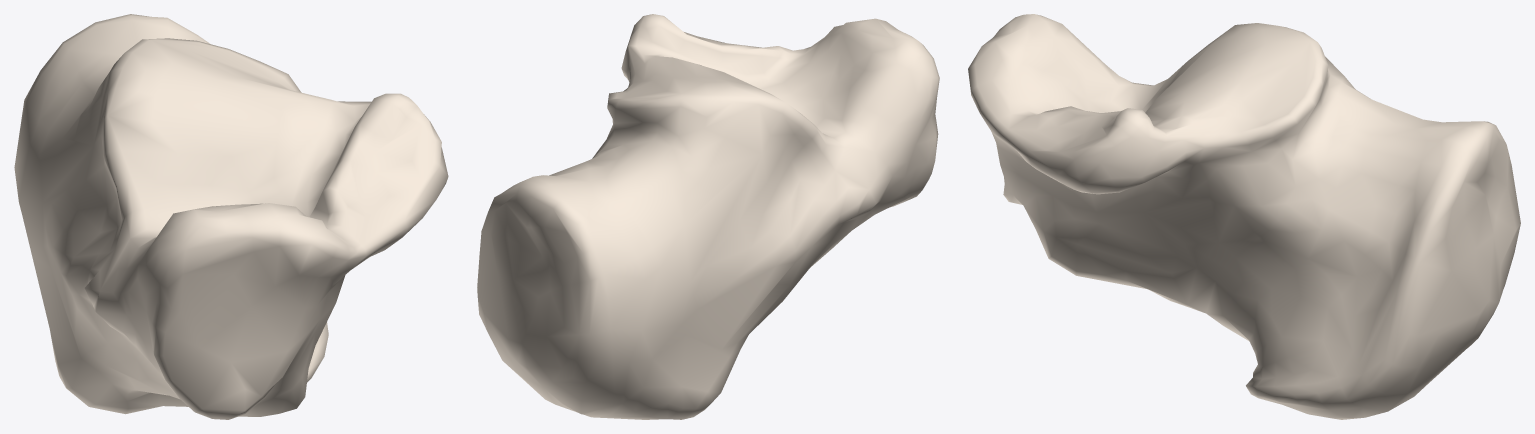
File: right_calcaneus.glb
3 views of the same model, side by side, from view 1: azimuth 30°, elevation 25°; view 2: azimuth 150°, elevation 25°; view 3: azimuth 270°, elevation 25° (orthographic). The views are drawn at different scales.
Parts seen in each view (by area): view 1: Calcaneus.r; view 2: Calcaneus.r; view 3: Calcaneus.r.
Part boxes in pixels (left/top/right/bottom): Calcaneus.r: left=14, top=14, right=448, bottom=419; Calcaneus.r: left=477, top=14, right=939, bottom=419; Calcaneus.r: left=968, top=14, right=1520, bottom=419.
Size of the model in its own units: 0.0493 by 0.0511 by 0.0768.
